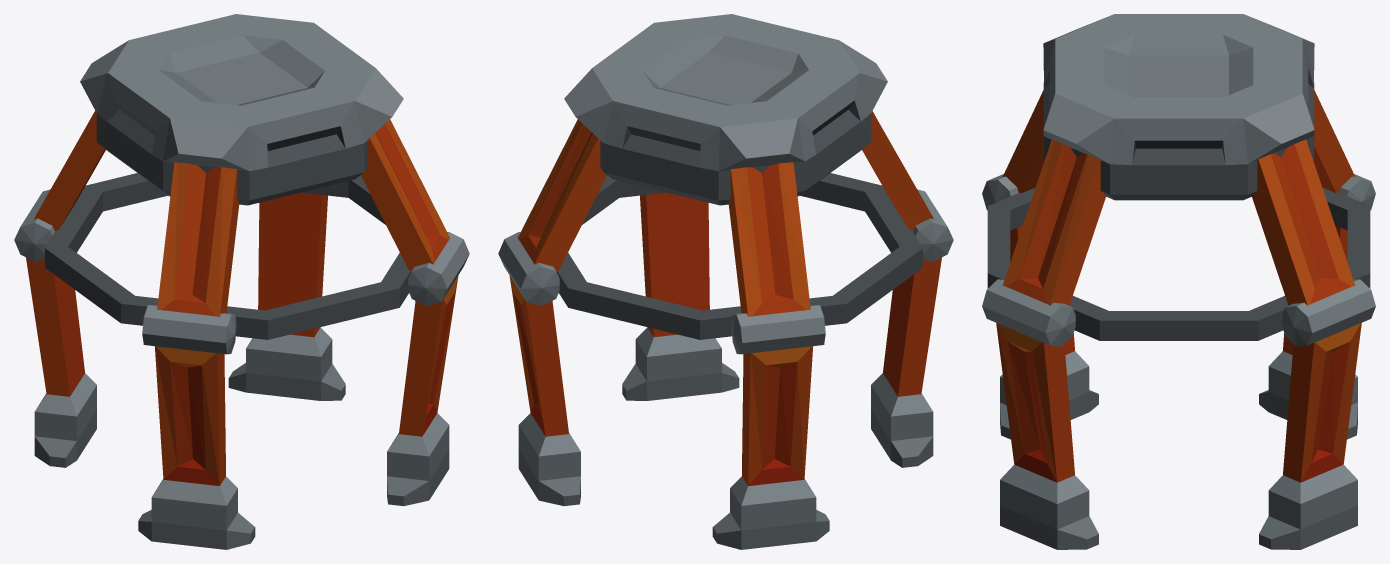
Rendered from kk_structure_tall.obj.
The picture shows the model from 3 angles, left to right: view 1: azimuth 30°, elevation 25°; view 2: azimuth 150°, elevation 25°; view 3: azimuth 270°, elevation 25°; orthographic projection. The views are drawn at different scales.
Size of the model in its own units: 14 by 16 by 14.
